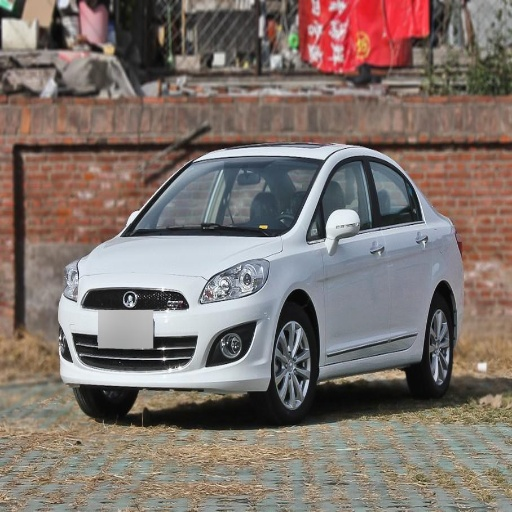front_bumper: (60, 274, 281, 383)
front_glass: (122, 157, 323, 236)
front_left_door: (315, 154, 389, 356)
